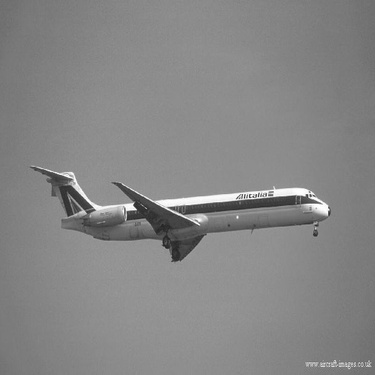airplane: (7, 135, 349, 272)
